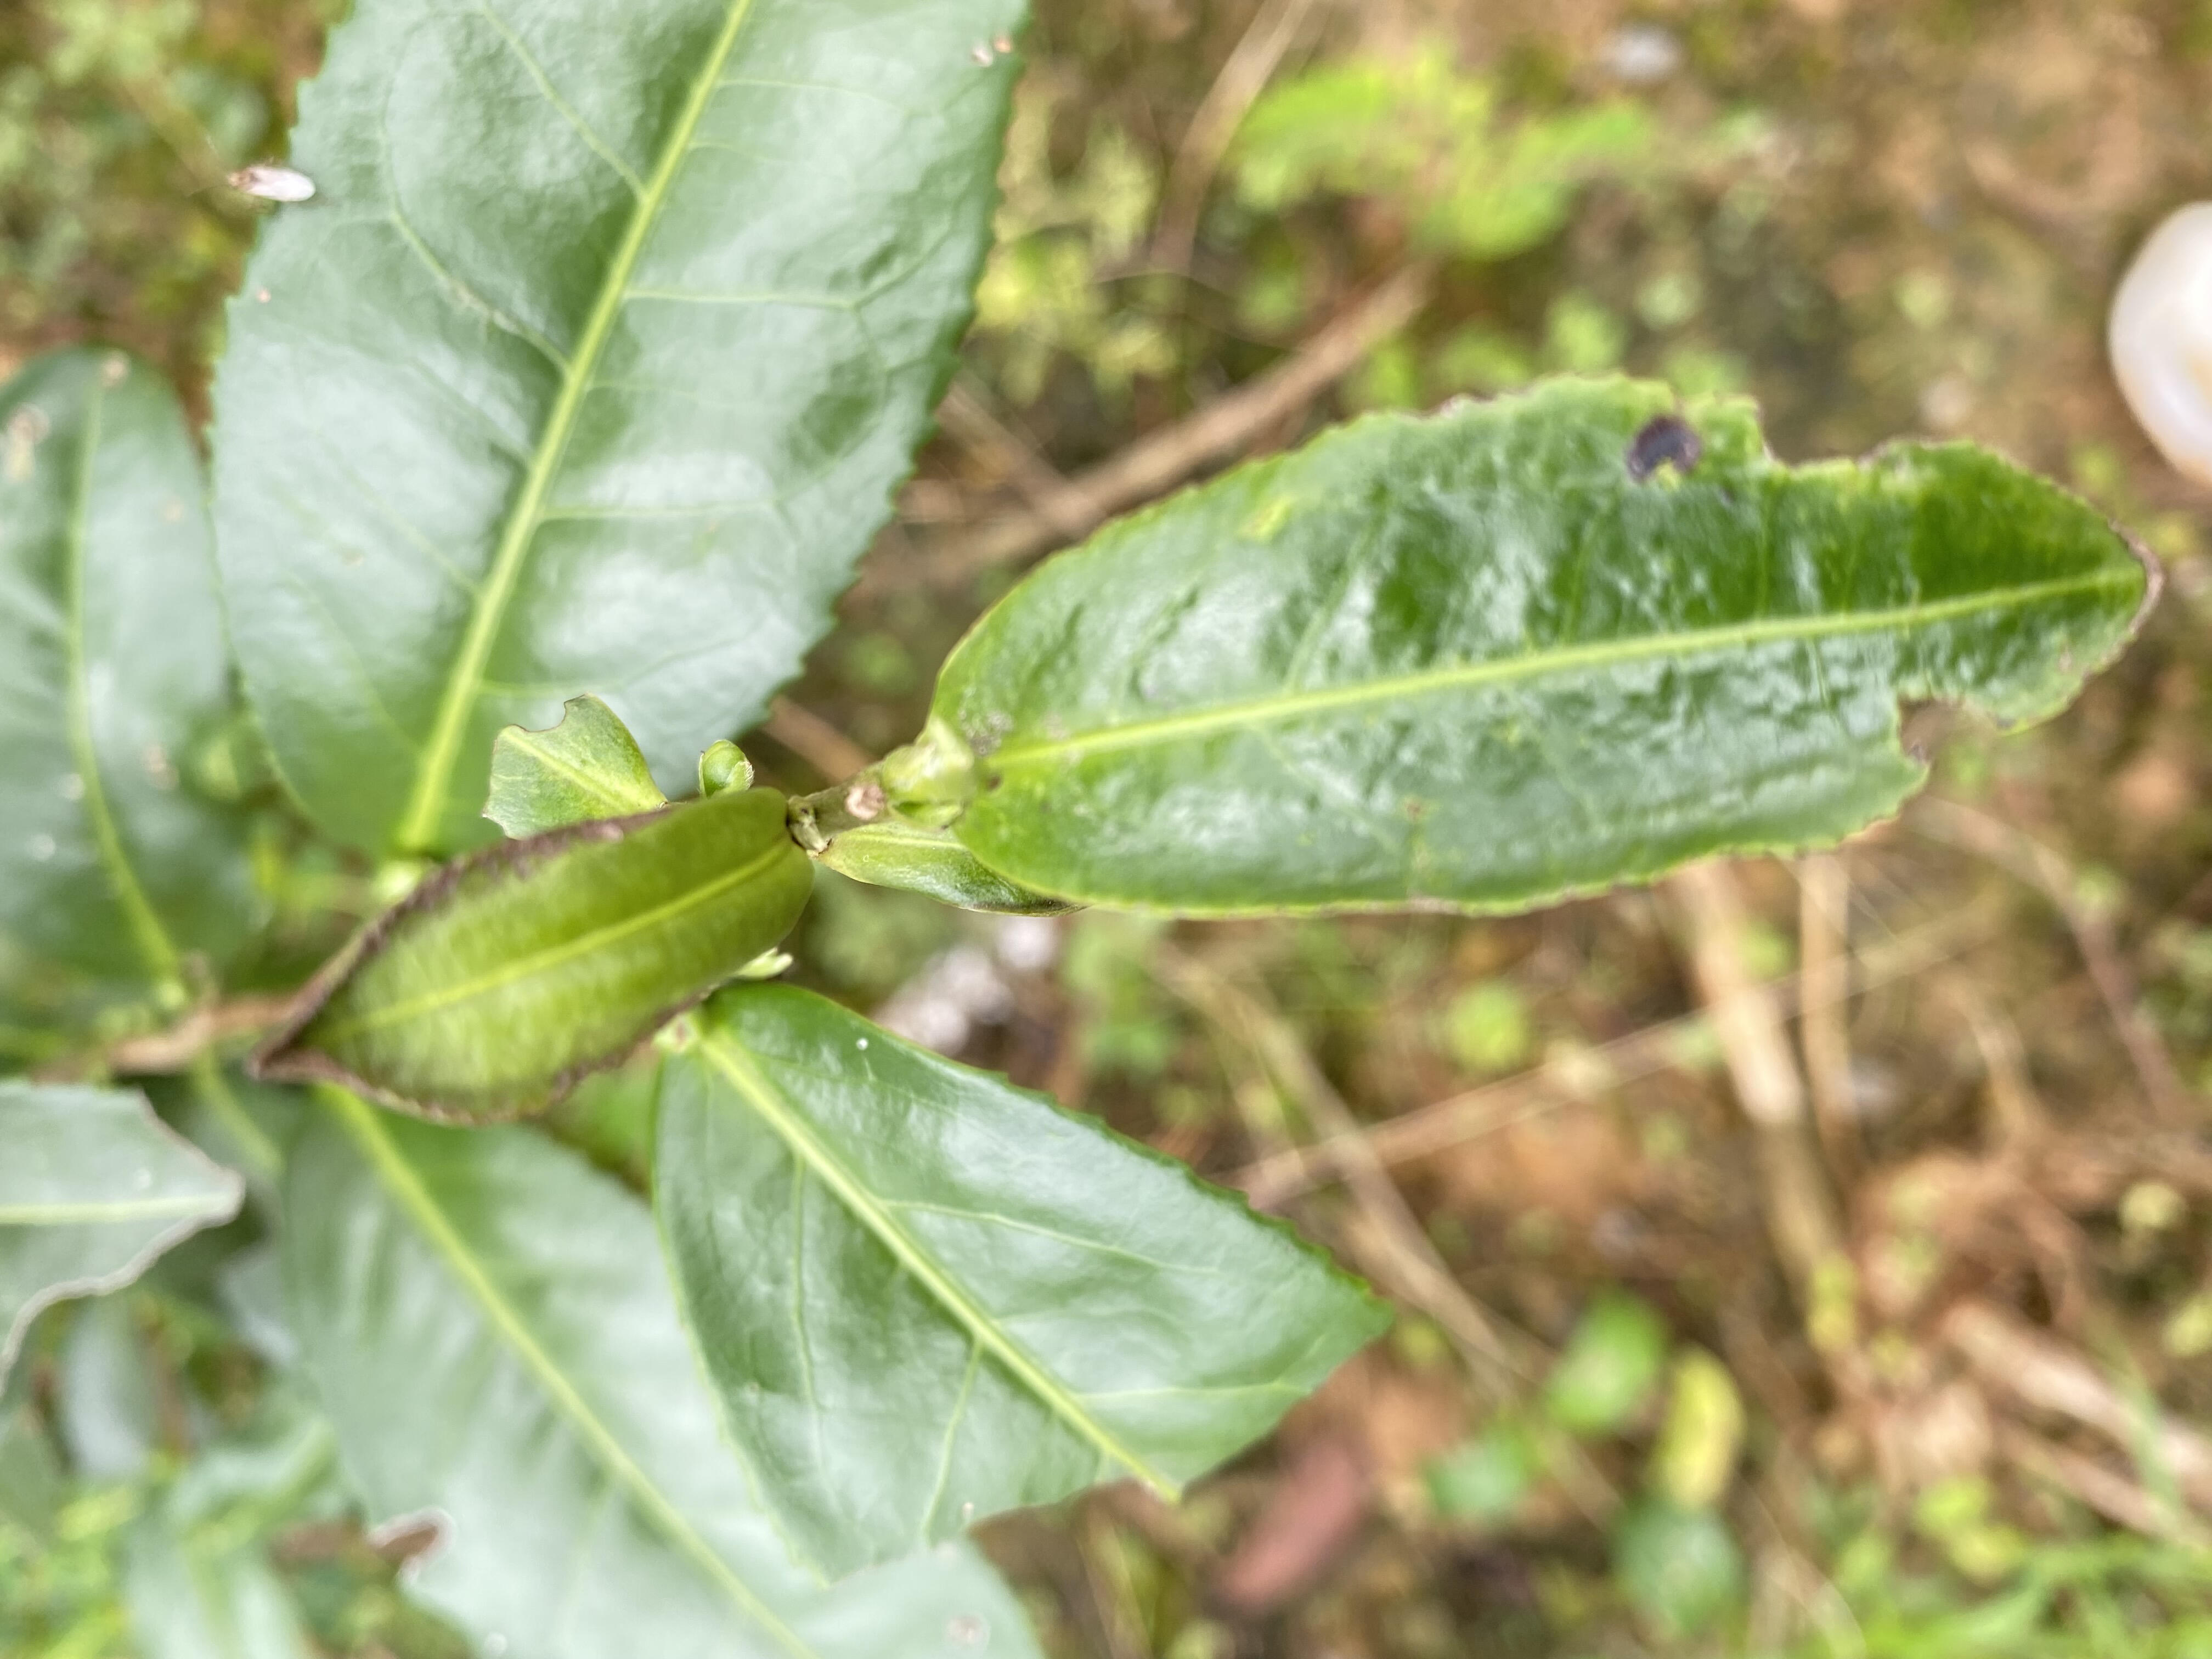chihuo_high: (648, 979, 1392, 1593), (479, 690, 664, 835)
tanju_high: (244, 789, 819, 1129)
